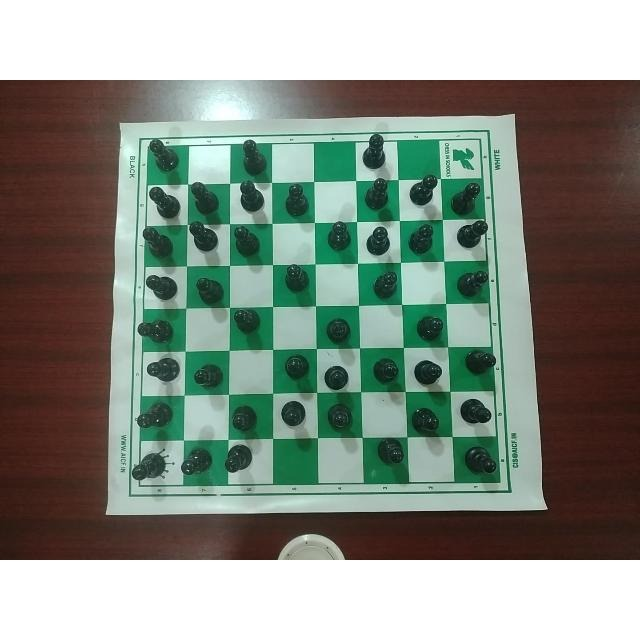black-pawn: (131, 449, 173, 487), (135, 399, 177, 435), (140, 357, 184, 389), (460, 444, 499, 479), (409, 310, 446, 346), (369, 437, 407, 471), (234, 136, 267, 175), (320, 313, 355, 349), (145, 185, 182, 219), (188, 181, 222, 218), (451, 264, 489, 297), (406, 170, 438, 209), (231, 179, 267, 213), (139, 225, 175, 259), (411, 355, 447, 389), (218, 443, 254, 477), (459, 347, 497, 379), (229, 224, 264, 258), (447, 180, 480, 216), (227, 401, 260, 437), (408, 402, 444, 435), (280, 183, 312, 220), (135, 318, 177, 346), (185, 221, 219, 255), (362, 222, 394, 258), (228, 309, 264, 341), (280, 353, 316, 385), (459, 397, 495, 429), (362, 177, 392, 215), (145, 139, 178, 173), (454, 219, 489, 251), (276, 263, 311, 295), (186, 363, 225, 391), (369, 354, 403, 386), (177, 449, 212, 480), (357, 134, 387, 170), (277, 397, 307, 433), (321, 221, 353, 254), (404, 224, 435, 258), (321, 361, 353, 393), (322, 403, 354, 435), (192, 276, 224, 305), (144, 275, 176, 301), (369, 270, 401, 296)
